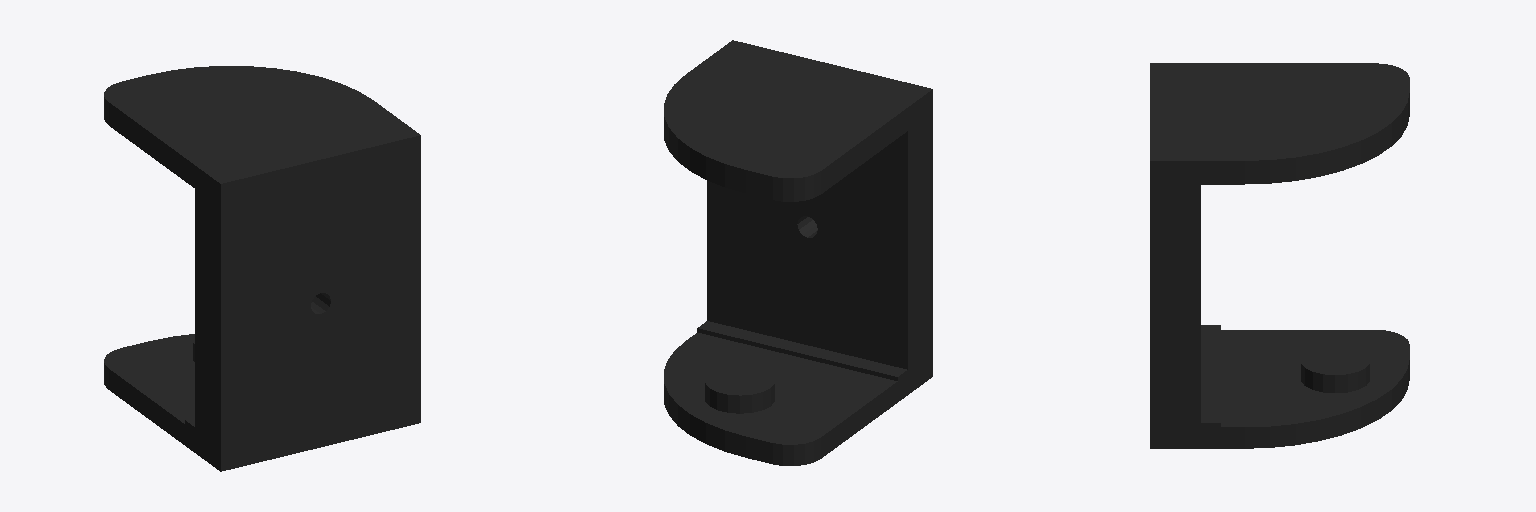
3 renders of one model, left to right at view 1: azimuth 30°, elevation 25°; view 2: azimuth 150°, elevation 25°; view 3: azimuth 270°, elevation 25°, orthographic.
Parts seen in each view (by area): view 1: link_3.0; view 2: link_3.0; view 3: link_3.0.
Boxes of the visible parts, <box> form: link_3.0: <box>104,66,420,471</box>; link_3.0: <box>664,40,932,465</box>; link_3.0: <box>1150,63,1409,448</box>.
Bounding box in the file's own units: 0.0196 × 0.0269 × 0.022.